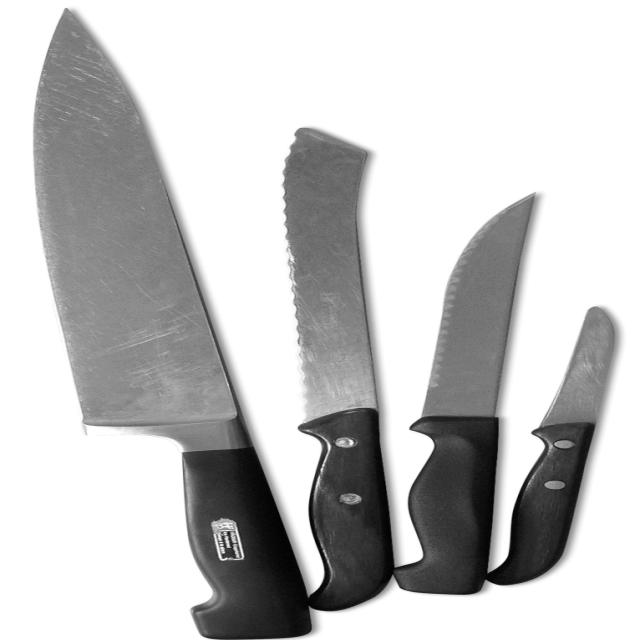Weapon: (395, 194, 533, 594), (286, 128, 393, 610)
